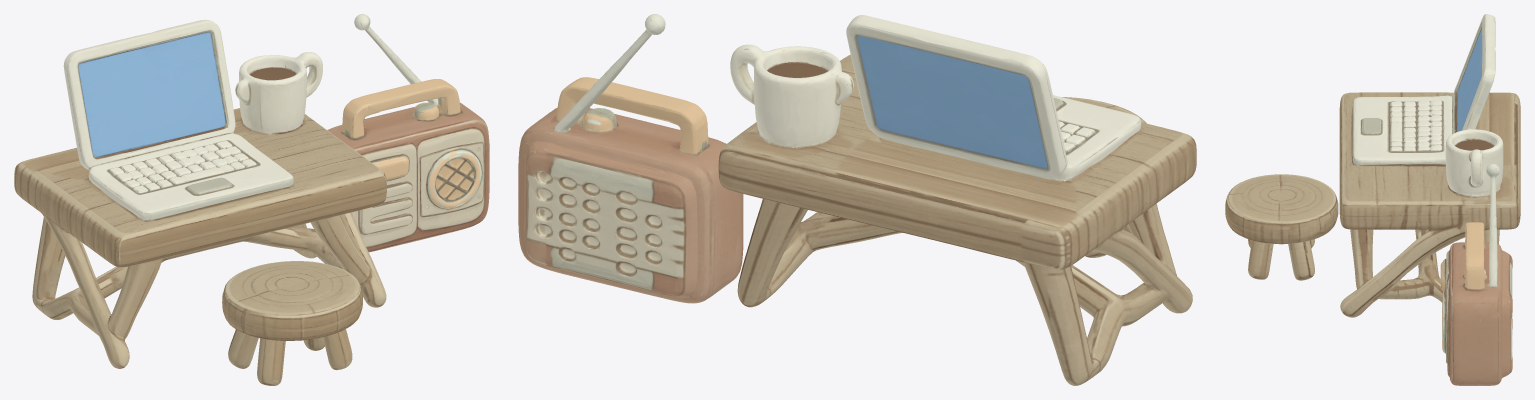
File: folding-laptop-radio-workstation-smooth-cartoon-v1.glb
3 views of the same model, side by side, from view 1: azimuth 30°, elevation 25°; view 2: azimuth 150°, elevation 25°; view 3: azimuth 270°, elevation 25° (orthographic). The views are drawn at different scales.
Parts seen in each view (by area): view 1: folding-laptop-radio-workstation-flat-source-v4; view 2: folding-laptop-radio-workstation-flat-source-v4; view 3: folding-laptop-radio-workstation-flat-source-v4.
Part boxes in pixels (box(x1,y1,x2,y2)): folding-laptop-radio-workstation-flat-source-v4: box(14, 14, 489, 385); folding-laptop-radio-workstation-flat-source-v4: box(518, 14, 1196, 385); folding-laptop-radio-workstation-flat-source-v4: box(1225, 14, 1520, 385).
Bounding box in the file's own units: 1.9 × 1.04 × 1.3.
1 material, 1 textured.
